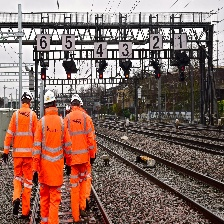helmet: (20, 85, 32, 104), (70, 93, 85, 108), (44, 90, 55, 107)
person: (62, 83, 100, 224), (33, 89, 70, 223), (5, 85, 38, 219)
vest: (40, 118, 67, 189), (66, 110, 93, 175), (13, 109, 37, 167)
